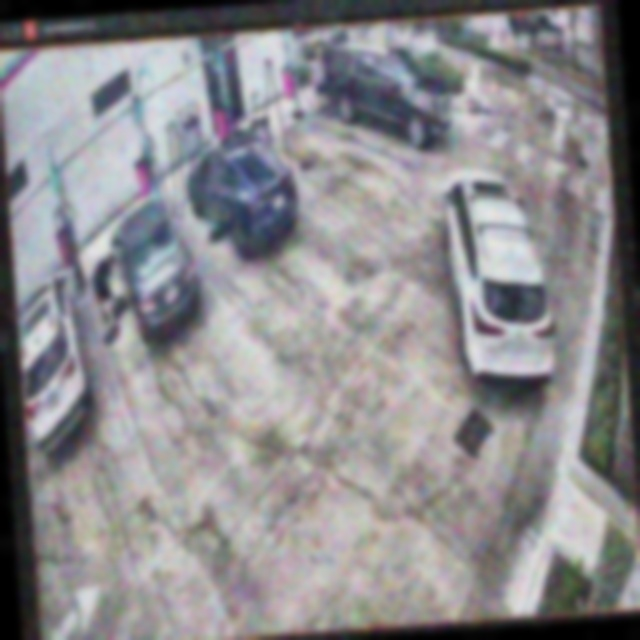Car: (440, 161, 555, 381), (182, 123, 302, 261), (108, 194, 203, 344)
